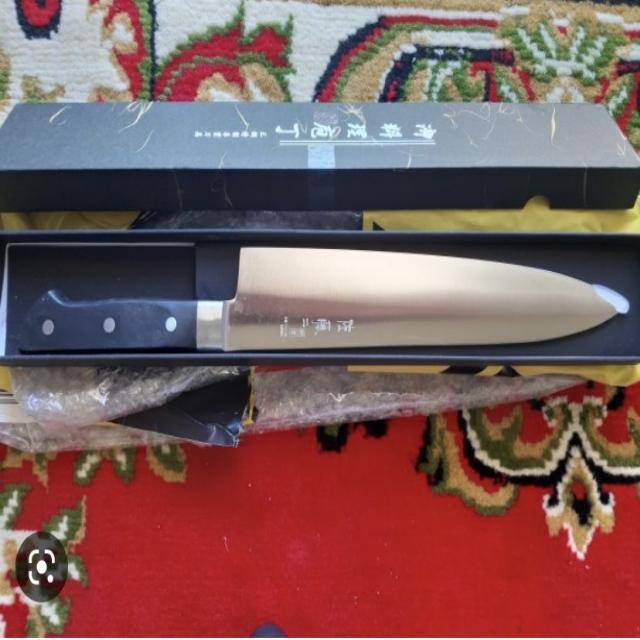Knife: (4, 230, 640, 378)
